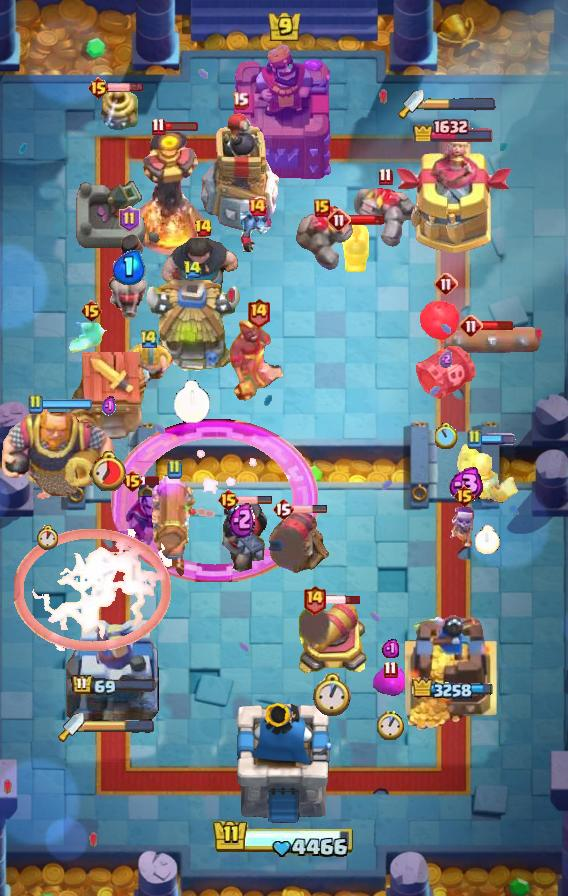bar: (394, 142, 512, 256), (66, 611, 162, 731)
barbarian: (65, 319, 117, 355)
barbarian-evolution: (14, 529, 172, 651)
battle-healer: (151, 475, 197, 579)
clock: (212, 818, 356, 860)
electro-dragon: (129, 129, 207, 255)
electro-spirit: (443, 467, 484, 501), (113, 251, 146, 285), (229, 501, 255, 539), (382, 638, 399, 658), (102, 395, 116, 417), (439, 350, 453, 368)
elite-barbarian: (107, 233, 151, 319)
elixir: (173, 380, 211, 424), (313, 673, 351, 717), (89, 450, 129, 491), (377, 710, 404, 740), (476, 526, 501, 555), (36, 525, 60, 550), (434, 423, 457, 449)
emote: (40, 399, 91, 409), (326, 594, 363, 606), (163, 120, 199, 132), (349, 214, 385, 226), (480, 433, 516, 445), (107, 82, 145, 93), (480, 320, 514, 331), (237, 495, 273, 505), (292, 504, 328, 514), (141, 474, 161, 485)
executioner: (339, 222, 371, 274)
firecracker: (457, 440, 519, 504)
freeze: (228, 319, 288, 405)
giant-skeleton: (0, 402, 116, 502)
goblin: (448, 507, 480, 547)
goblin-drill: (92, 86, 140, 134)
goblin-giant: (125, 341, 173, 384)
inferno-dragon: (211, 501, 273, 577)
king-tower: (230, 43, 338, 181), (235, 703, 333, 826)
king-tower-bar: (424, 97, 496, 111), (84, 720, 154, 734)
knight-evolution: (111, 419, 318, 582)
miner: (372, 668, 408, 698)
minion: (432, 323, 540, 359)
prince: (141, 280, 243, 376)
queen-tower: (403, 613, 506, 731)
royal-delivery: (235, 206, 279, 252)
royal-giant-evolution: (264, 506, 332, 576)
royal-hog: (159, 238, 247, 308)
royal-recruit: (296, 604, 368, 678)
royal-recruit-evolution: (413, 299, 479, 403)
selected: (413, 116, 496, 142), (413, 677, 496, 702), (71, 674, 157, 698)
skeleton-king: (110, 486, 182, 546)
sparky: (66, 351, 152, 449)
text: (245, 296, 270, 327), (302, 585, 327, 616), (327, 208, 351, 232), (434, 272, 458, 296), (459, 314, 483, 338), (86, 76, 109, 100), (81, 299, 104, 323), (120, 469, 143, 493), (452, 484, 475, 508), (216, 488, 239, 512), (119, 206, 140, 232), (272, 497, 294, 521), (139, 327, 159, 349), (247, 197, 267, 217), (194, 218, 214, 238), (182, 260, 201, 279), (27, 394, 43, 414), (466, 429, 482, 449), (166, 459, 182, 479), (231, 91, 248, 109), (314, 199, 330, 217), (378, 167, 393, 186), (383, 661, 398, 679), (151, 117, 165, 135)
valkyrie-evolution: (290, 206, 354, 274), (353, 188, 417, 248)
zappy: (197, 112, 283, 232)
